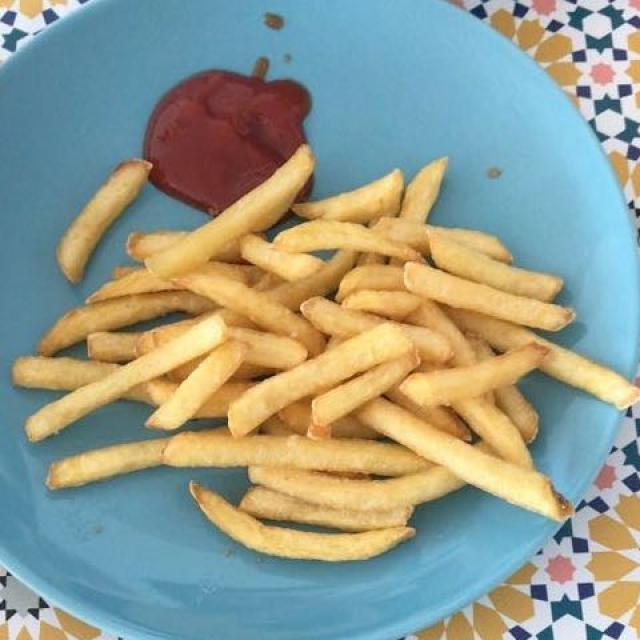chips-french-fries: (16, 166, 639, 594)
ketchup: (133, 61, 323, 214)
